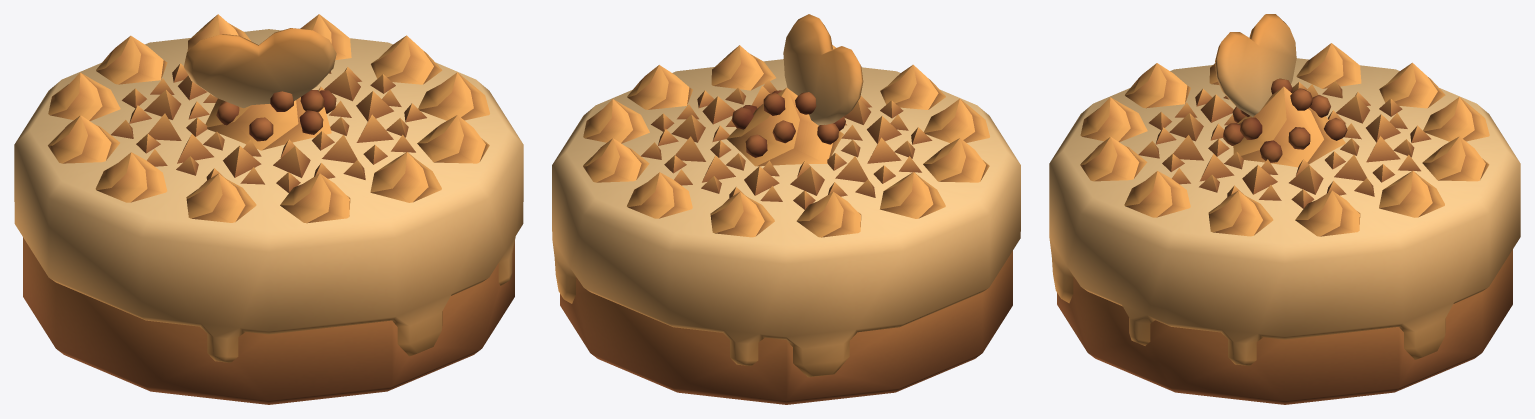
File: m_WhiteChocolateCake01.fbx
3 renders of one model, left to right at view 1: azimuth 30°, elevation 25°; view 2: azimuth 150°, elevation 25°; view 3: azimuth 270°, elevation 25°, orthographic. The views are drawn at different scales.
Visible parts, largest first — view 1: m_WhiteChocolateCake01; view 2: m_WhiteChocolateCake01; view 3: m_WhiteChocolateCake01.
Boxes of the visible parts, x1,y1,x2,y2 form: m_WhiteChocolateCake01: (14, 14, 523, 404); m_WhiteChocolateCake01: (552, 14, 1020, 404); m_WhiteChocolateCake01: (1049, 14, 1520, 404).
Bounding box in the file's own units: 28.97 × 18.81 × 28.97.
